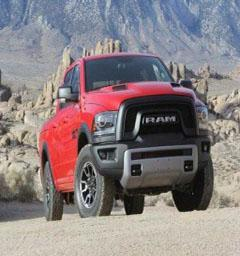car: (26, 44, 227, 222)
